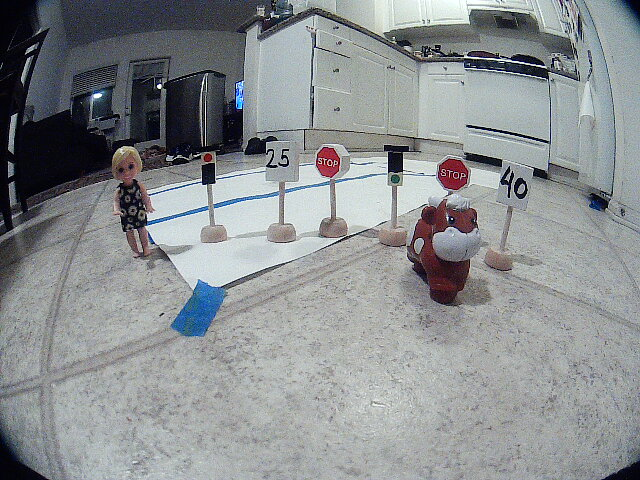Cow: (410, 188, 488, 310)
Green Traffic Light: (379, 142, 418, 198)
Person: (95, 145, 166, 265)
Red Traffic Light: (191, 142, 243, 244)
Speed Limit 25: (260, 136, 308, 189)
Speed Limit 40: (496, 159, 537, 213)
Stop Sign: (313, 136, 353, 188), (432, 154, 480, 192)
